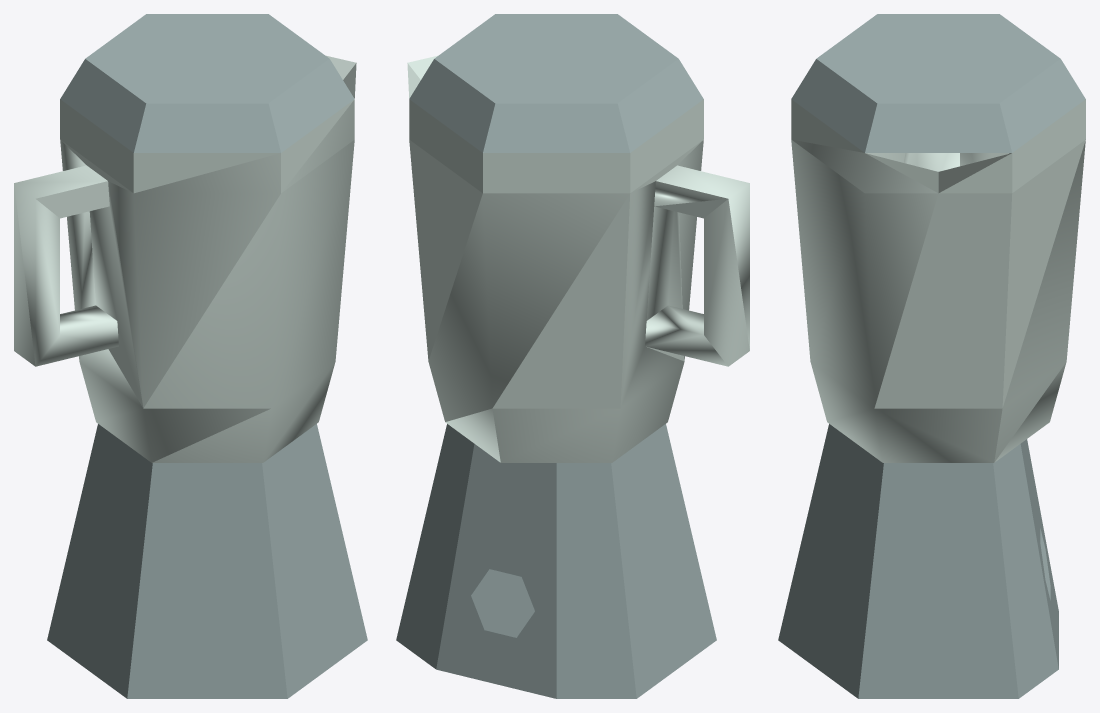
The model's file is kitchenBlender.glb.
3 views of the same model, side by side, from view 1: azimuth 30°, elevation 25°; view 2: azimuth 150°, elevation 25°; view 3: azimuth 270°, elevation 25° (orthographic).
Visible parts, largest first — view 1: kitchenBlender; view 2: kitchenBlender; view 3: kitchenBlender.
Part boxes in pixels (<box>): kitchenBlender: <box>14,14,367,698</box>; kitchenBlender: <box>396,14,749,698</box>; kitchenBlender: <box>778,14,1085,698</box>.
Bounding box in the file's own units: 1.36 × 2.28 × 1.09.
